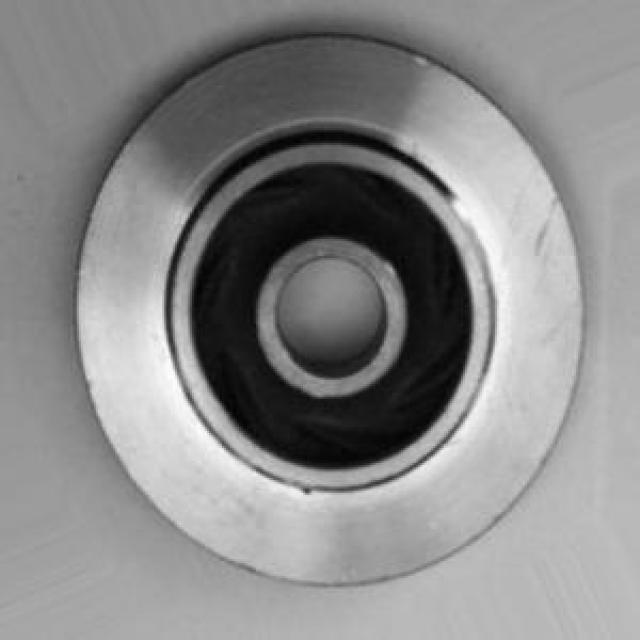Defect: (290, 482, 321, 504)
